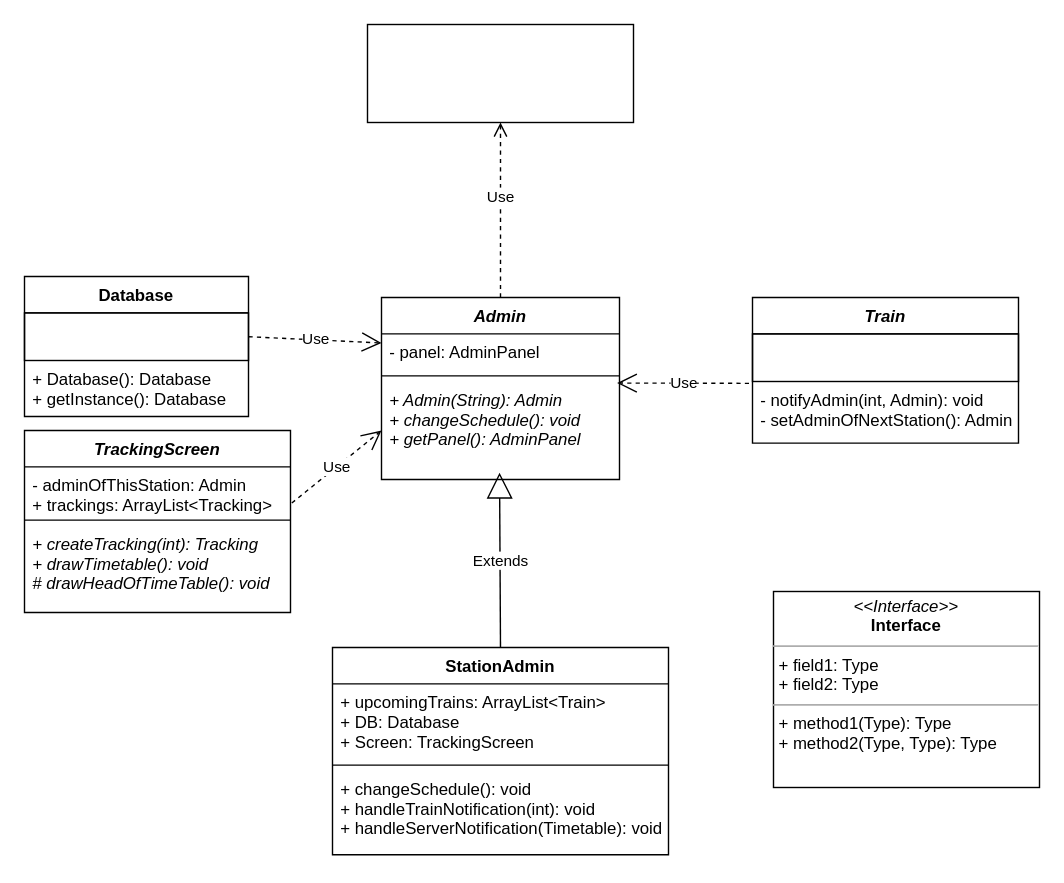
Image size: 1064x883. Some labels were removed from this diagram. The shapes that lost their labels are listed below. From the top down, each one's centre as x and y in pixels, then its label:
At [500,72]: "<<Interface>> AdminPanel + drawGUI(): void".
At [135,336]: "- admin: Admin".
At [884,357]: "- adminOfNextStation: Admin".
